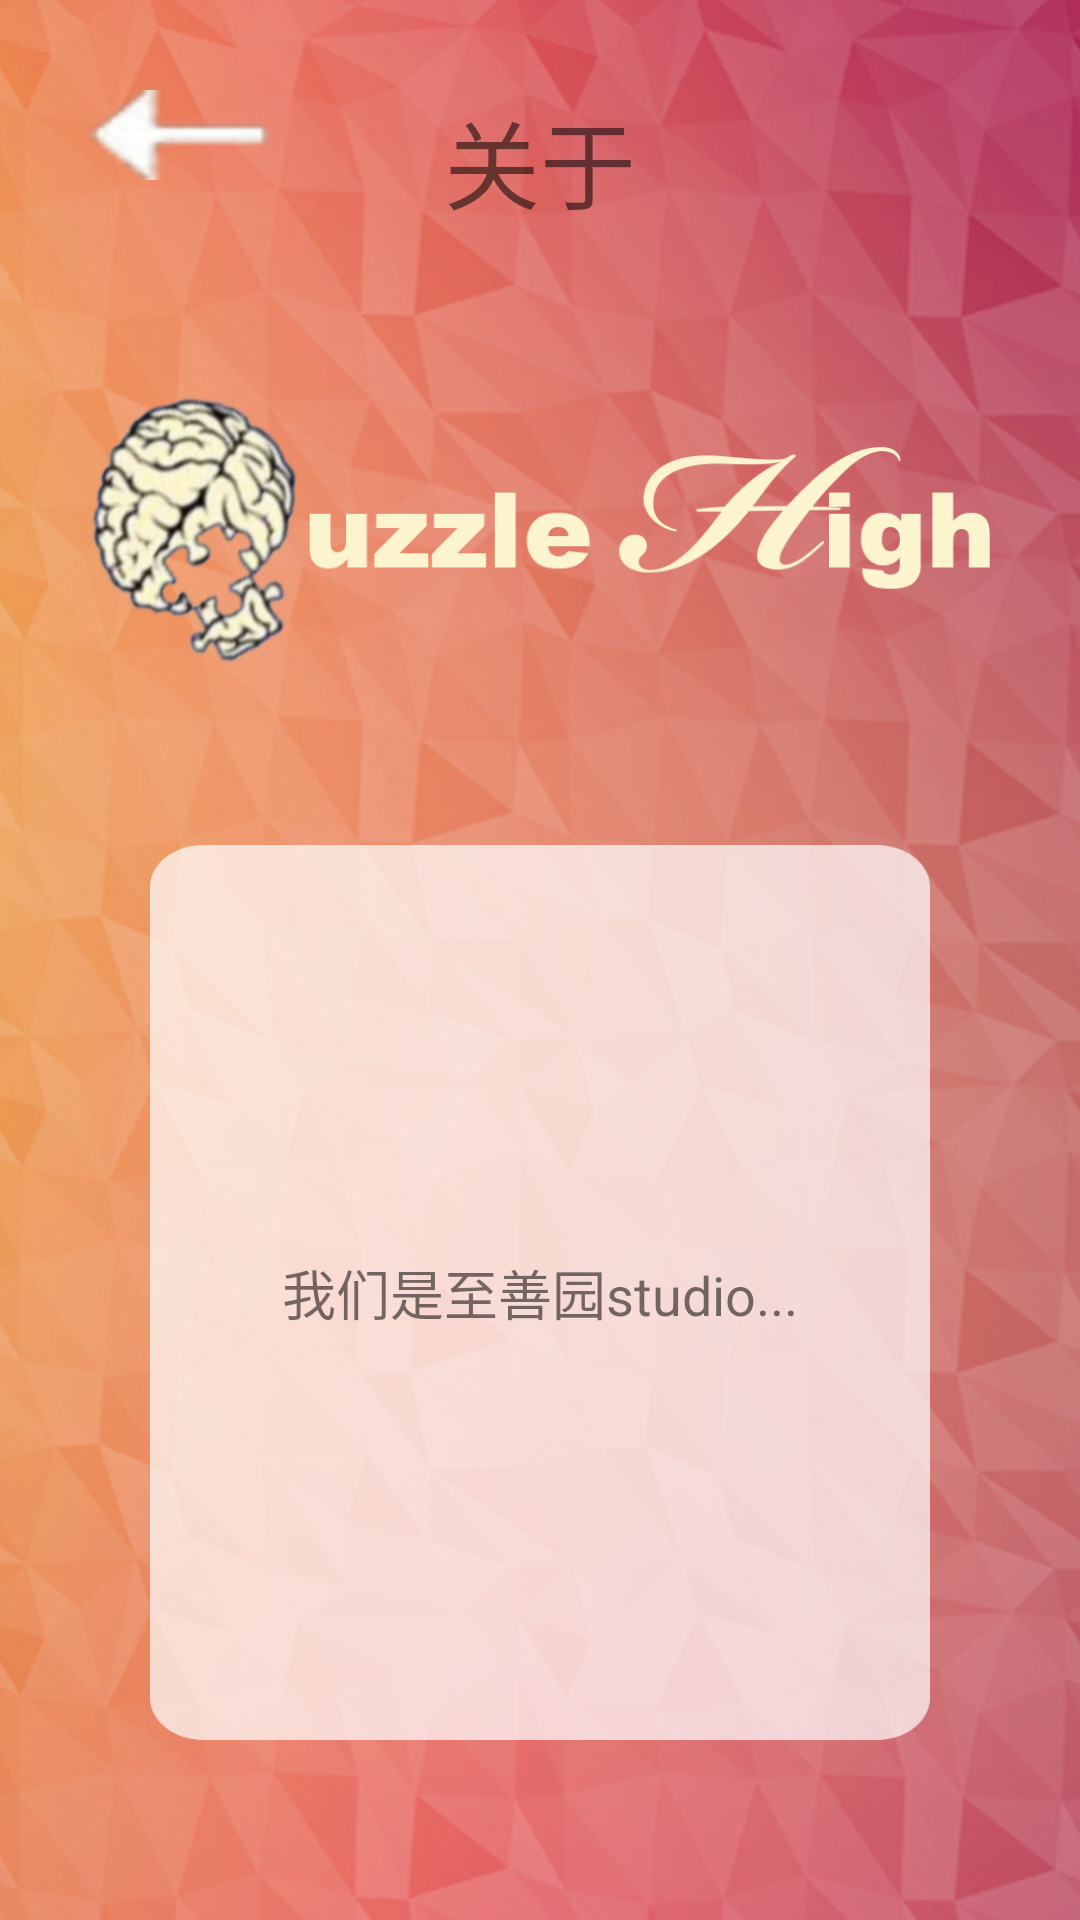

Where to tap for icons on this 1080*1920 app screen, as point (x, y):
back: point (180, 135)
